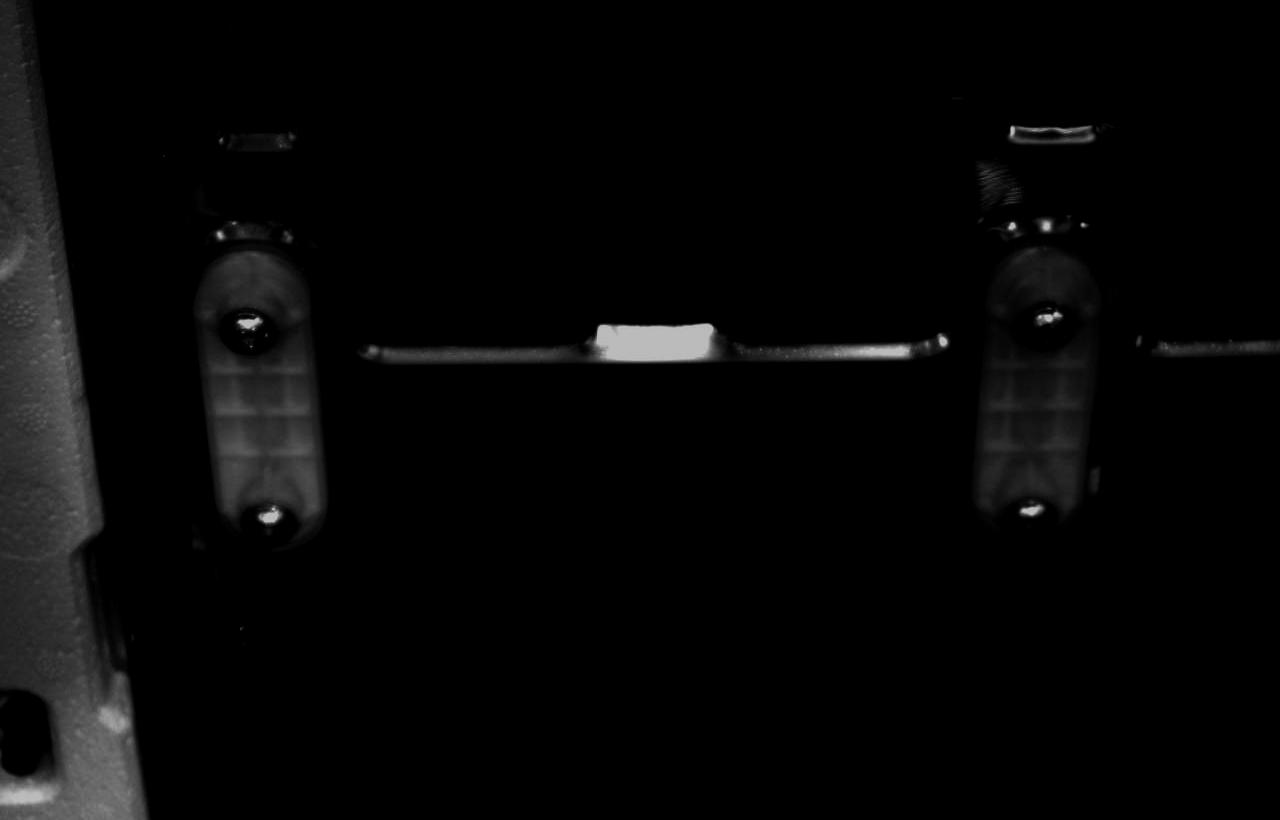vida-ok: (211, 298, 283, 365), (1004, 478, 1070, 547), (1016, 292, 1083, 359), (234, 497, 300, 555)
